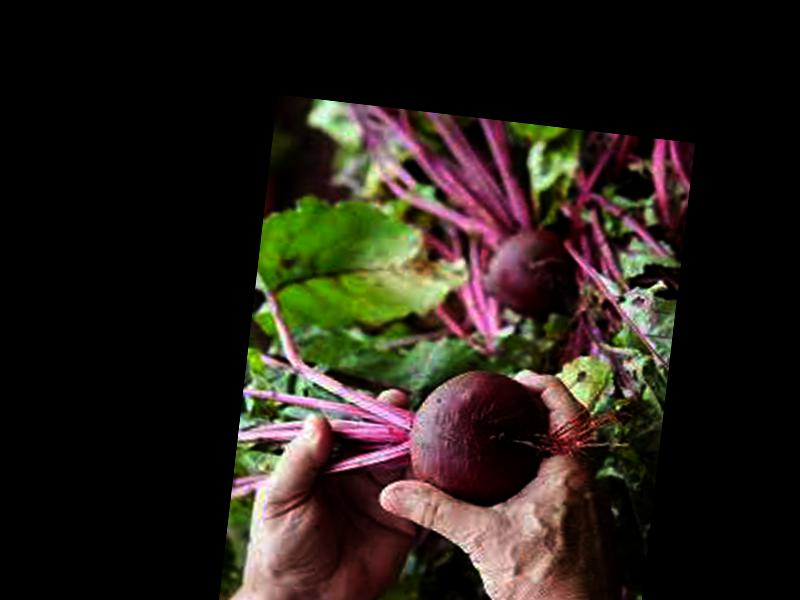Beet: (235, 271, 563, 514)
